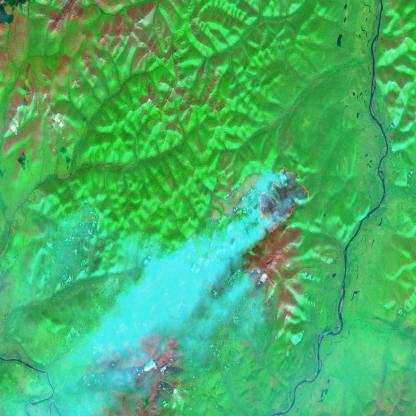fire: (258, 161, 313, 237)
